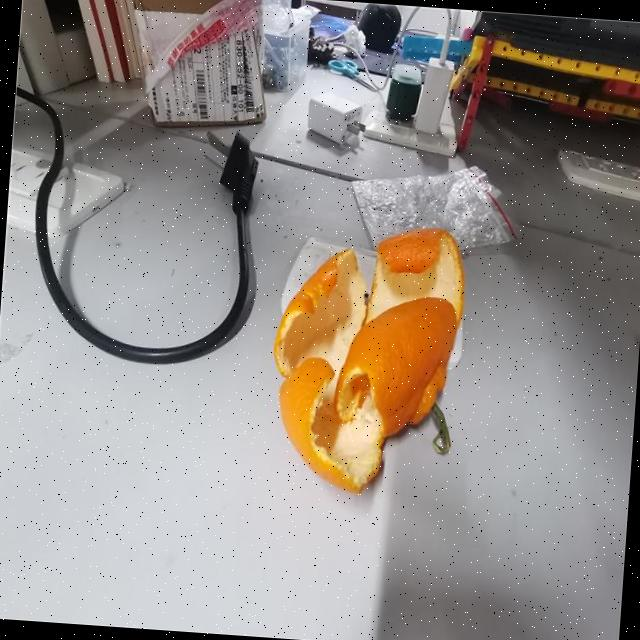orange-peel: (262, 216, 469, 500)
